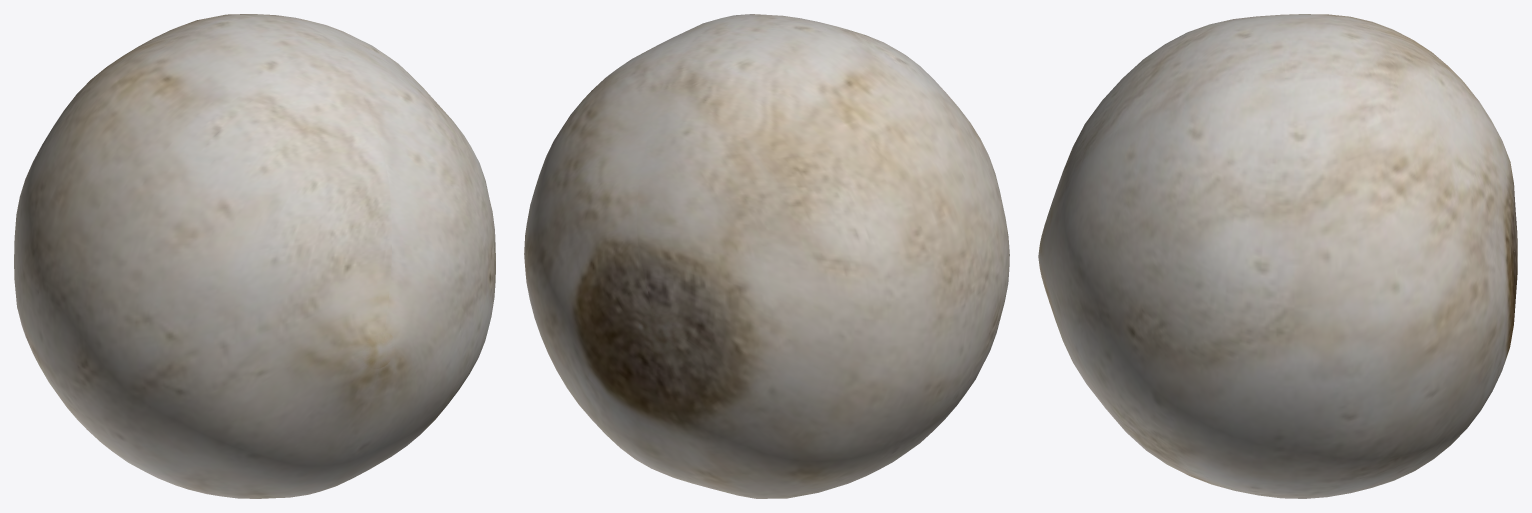
Rendered from PepperWhite.obj.
3 renders of one model, left to right at view 1: azimuth 30°, elevation 25°; view 2: azimuth 150°, elevation 25°; view 3: azimuth 270°, elevation 25°, orthographic.
Visible parts, largest first — view 1: PepperWhite; view 2: PepperWhite; view 3: PepperWhite.
Part boxes in pixels (x1,y1,x2,y2): PepperWhite: [14, 14, 495, 498]; PepperWhite: [524, 14, 1009, 498]; PepperWhite: [1038, 14, 1517, 498].
Bounding box in the file's own units: 0.00439 × 0.00439 × 0.00432.
1 material, 1 textured.
